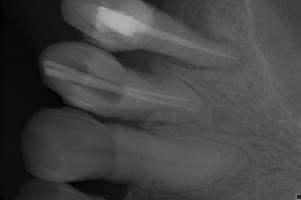Dental Caries: (159, 0, 255, 73)
